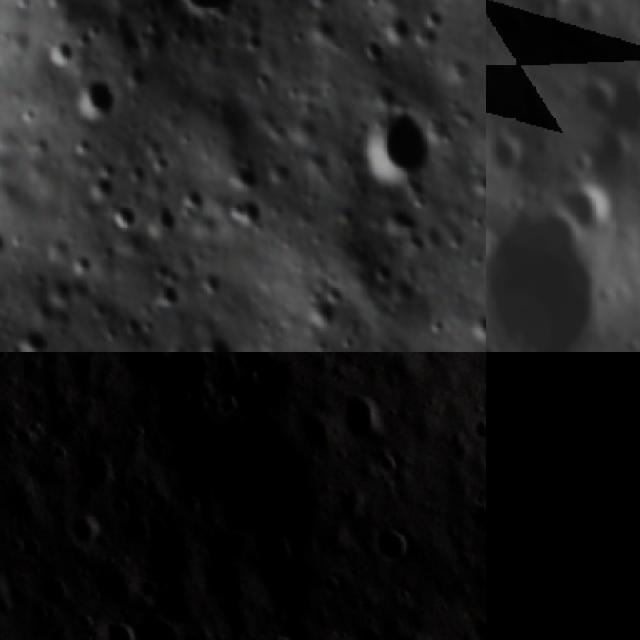crater: (142, 352, 373, 582), (487, 203, 640, 352), (486, 532, 607, 640), (206, 352, 305, 416), (75, 544, 153, 623), (364, 110, 442, 185), (96, 352, 187, 403), (356, 513, 424, 580), (327, 382, 391, 448), (60, 434, 123, 496), (553, 174, 612, 236), (17, 556, 77, 616), (53, 498, 110, 555), (119, 598, 192, 640), (486, 352, 571, 388), (64, 72, 114, 129), (486, 129, 534, 182), (449, 490, 486, 556), (88, 607, 146, 640), (143, 352, 226, 375), (102, 196, 147, 236), (247, 616, 312, 640), (378, 619, 447, 640), (457, 404, 486, 453), (0, 550, 18, 616), (43, 40, 80, 67)
